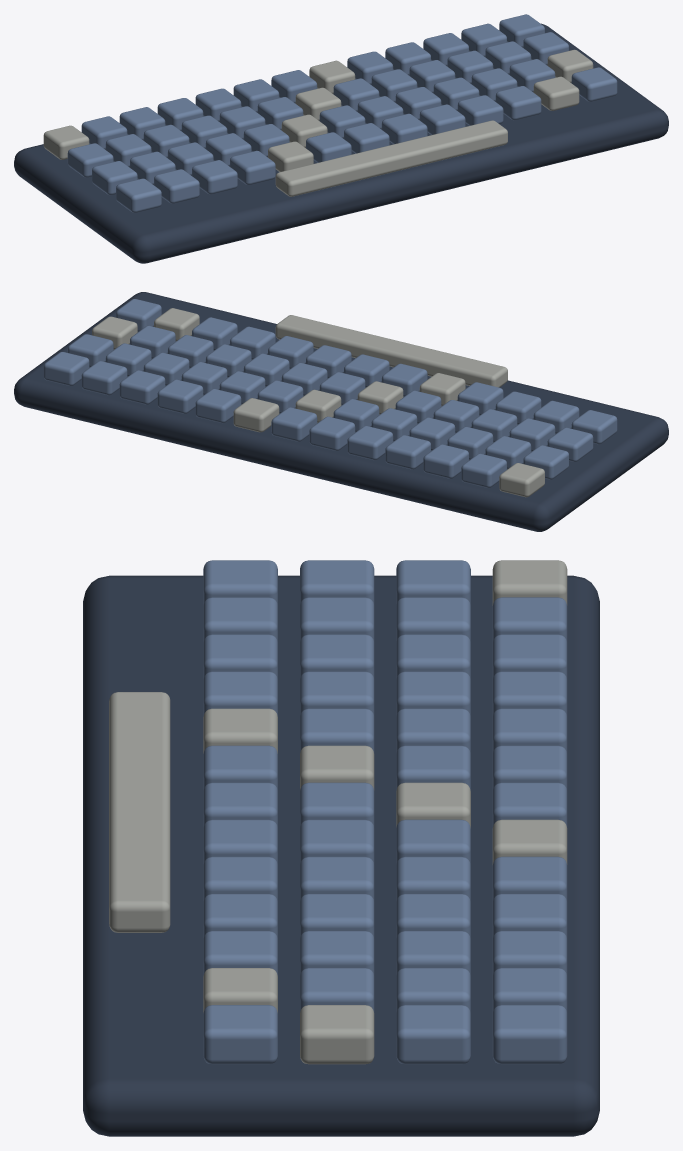
Rendered from room-computer-keyboard.glb.
The picture shows the model from 3 angles, top to bottom: view 1: azimuth 30°, elevation 25°; view 2: azimuth 150°, elevation 25°; view 3: azimuth 270°, elevation 25°; orthographic projection. The views are drawn at different scales.
Parts seen in each view (by area): view 1: fabric, frame, trim; view 2: fabric, frame, trim; view 3: fabric, frame, trim.
Boxes of the visible parts, x1=… form: fabric: x1=67, y1=14, x2=617, y2=212; frame: x1=14, y1=23, x2=668, y2=263; trim: x1=43, y1=49, x2=593, y2=196; fabric: x1=43, y1=299, x2=617, y2=487; frame: x1=14, y1=292, x2=668, y2=531; trim: x1=92, y1=308, x2=544, y2=497; fabric: x1=203, y1=560, x2=567, y2=1064; frame: x1=83, y1=575, x2=599, y2=1136; trim: x1=109, y1=560, x2=567, y2=1064.
Size of the model in its own units: 0.282 by 0.0225 by 0.118.
